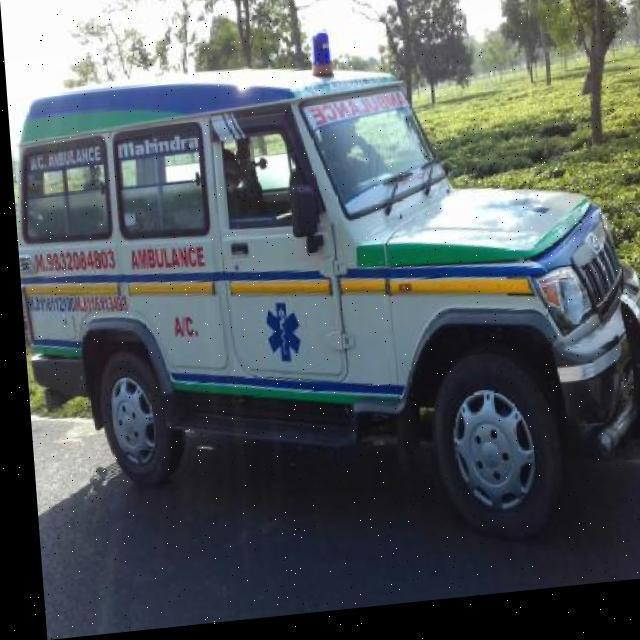Ambulance: (4, 9, 640, 595), (23, 338, 640, 638)
